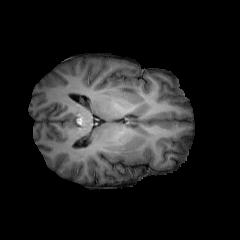glioma: (114, 84, 153, 161)
